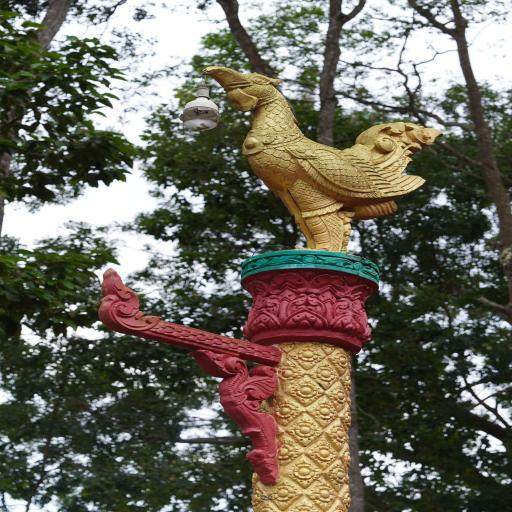hoa: (270, 399, 298, 422), (309, 443, 338, 464), (267, 484, 296, 504), (290, 460, 314, 482), (293, 381, 319, 401), (308, 482, 334, 502), (292, 419, 314, 439), (314, 400, 335, 420), (272, 442, 295, 460), (315, 364, 336, 382), (330, 386, 350, 404), (328, 424, 348, 442), (298, 346, 320, 362), (276, 364, 298, 380), (338, 490, 356, 508), (332, 351, 351, 368)
la: (263, 271, 312, 297), (302, 272, 349, 298), (342, 278, 374, 303), (240, 277, 269, 299)
ran: (189, 348, 294, 486), (90, 264, 157, 338)
than: (185, 50, 446, 256)
